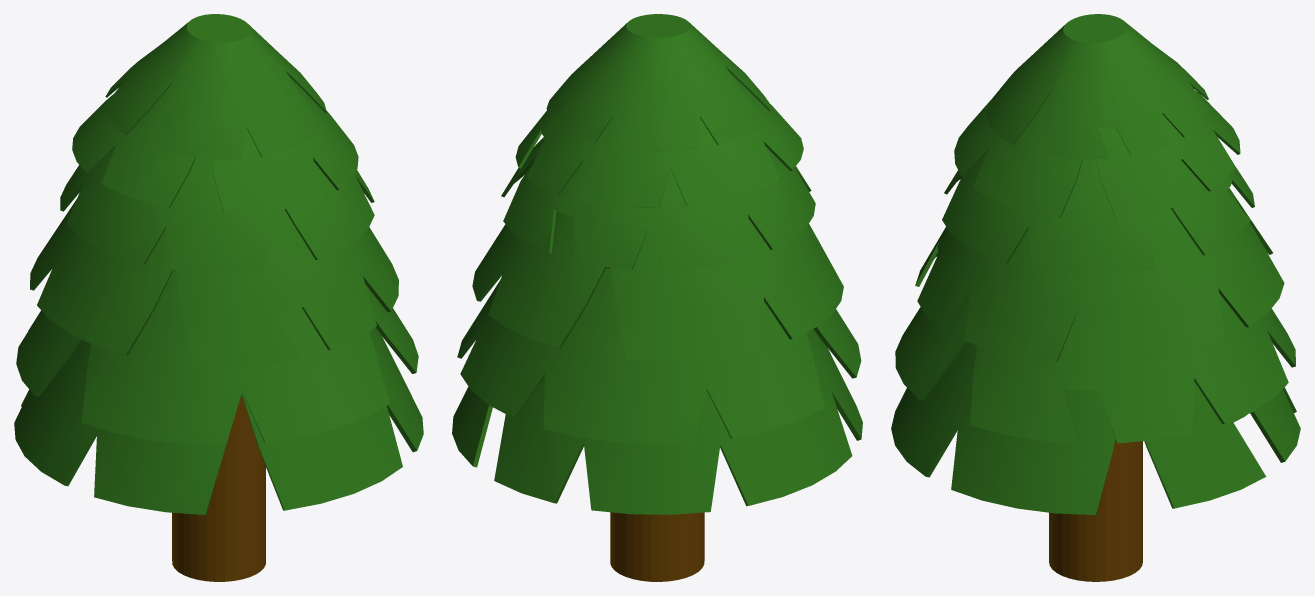
File: TREE_1.fbx
The picture shows the model from 3 angles, left to right: view 1: azimuth 30°, elevation 25°; view 2: azimuth 150°, elevation 25°; view 3: azimuth 270°, elevation 25°; orthographic projection.
Parts seen in each view (by area): view 1: Circle.006; view 2: Circle.006; view 3: Circle.006.
Boxes of the visible parts, x1,y1,x2,y2 form: Circle.006: (14, 14, 423, 581); Circle.006: (452, 14, 862, 581); Circle.006: (891, 14, 1300, 581).
Size of the model in its own units: 559 by 805 by 559.
